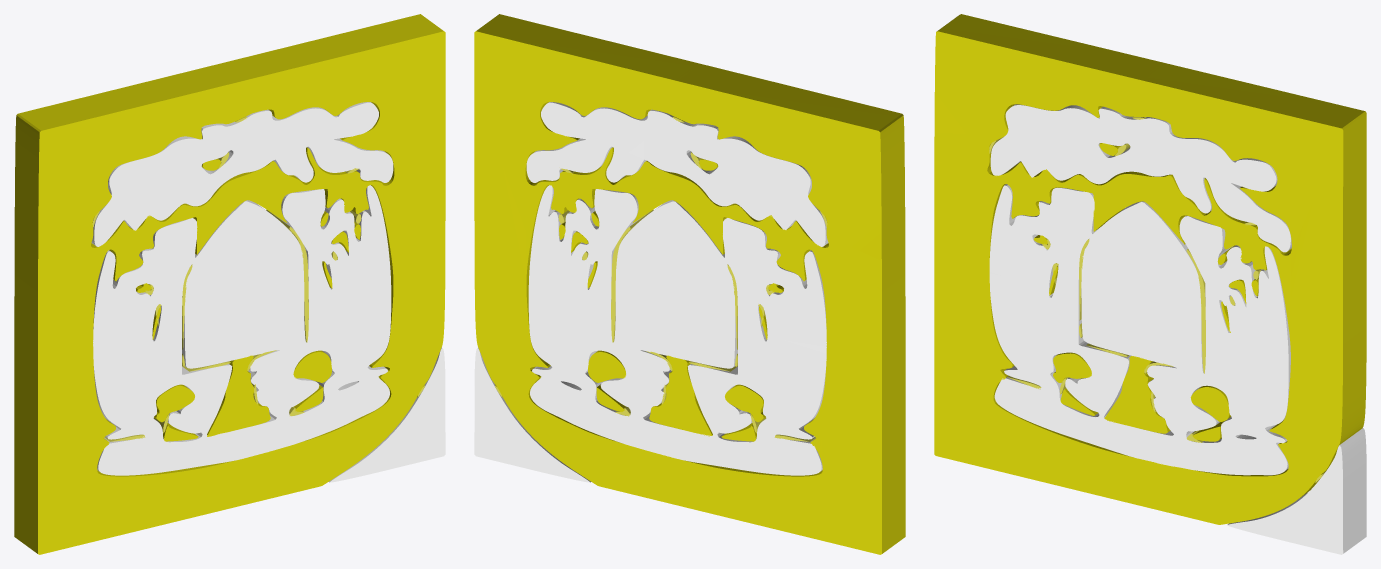
The model's file is Universidad3D.fbx.
The picture shows the model from 3 angles, left to right: view 1: azimuth 30°, elevation 25°; view 2: azimuth 150°, elevation 25°; view 3: azimuth 330°, elevation 25°; orthographic projection.
Visible parts, largest first — view 1: imagetostl_mesh0, imagetostl_mesh13, imagetostl_mesh14, imagetostl_mesh15, imagetostl_mesh1, imagetostl_mesh2, imagetostl_mesh3, imagetostl_mesh16; view 2: imagetostl_mesh0, imagetostl_mesh13, imagetostl_mesh14, imagetostl_mesh15, imagetostl_mesh1, imagetostl_mesh2, imagetostl_mesh3, imagetostl_mesh16; view 3: imagetostl_mesh0, imagetostl_mesh13, imagetostl_mesh14, imagetostl_mesh15, imagetostl_mesh1, imagetostl_mesh2, imagetostl_mesh3, imagetostl_mesh16.
Part boxes in pixels (bbox=[...]): imagetostl_mesh0: bbox=[14, 14, 445, 554]; imagetostl_mesh13: bbox=[93, 185, 391, 475]; imagetostl_mesh14: bbox=[91, 102, 393, 246]; imagetostl_mesh15: bbox=[329, 347, 445, 482]; imagetostl_mesh1: bbox=[207, 355, 270, 436]; imagetostl_mesh2: bbox=[293, 350, 331, 382]; imagetostl_mesh3: bbox=[154, 384, 194, 422]; imagetostl_mesh16: bbox=[266, 209, 308, 342]; imagetostl_mesh0: bbox=[474, 14, 905, 554]; imagetostl_mesh13: bbox=[528, 185, 826, 475]; imagetostl_mesh14: bbox=[526, 102, 828, 246]; imagetostl_mesh15: bbox=[474, 347, 590, 482]; imagetostl_mesh1: bbox=[649, 355, 712, 436]; imagetostl_mesh2: bbox=[588, 350, 625, 382]; imagetostl_mesh3: bbox=[725, 384, 765, 422]; imagetostl_mesh16: bbox=[611, 209, 653, 342]; imagetostl_mesh0: bbox=[934, 14, 1366, 524]; imagetostl_mesh13: bbox=[989, 184, 1290, 475]; imagetostl_mesh14: bbox=[990, 104, 1291, 252]; imagetostl_mesh15: bbox=[1227, 428, 1366, 554]; imagetostl_mesh1: bbox=[1104, 356, 1170, 433]; imagetostl_mesh2: bbox=[1190, 385, 1230, 421]; imagetostl_mesh3: bbox=[1053, 352, 1091, 382]; imagetostl_mesh16: bbox=[1186, 249, 1205, 373].
Bounding box in the file's own units: 10000 × 9967 × 1000.
